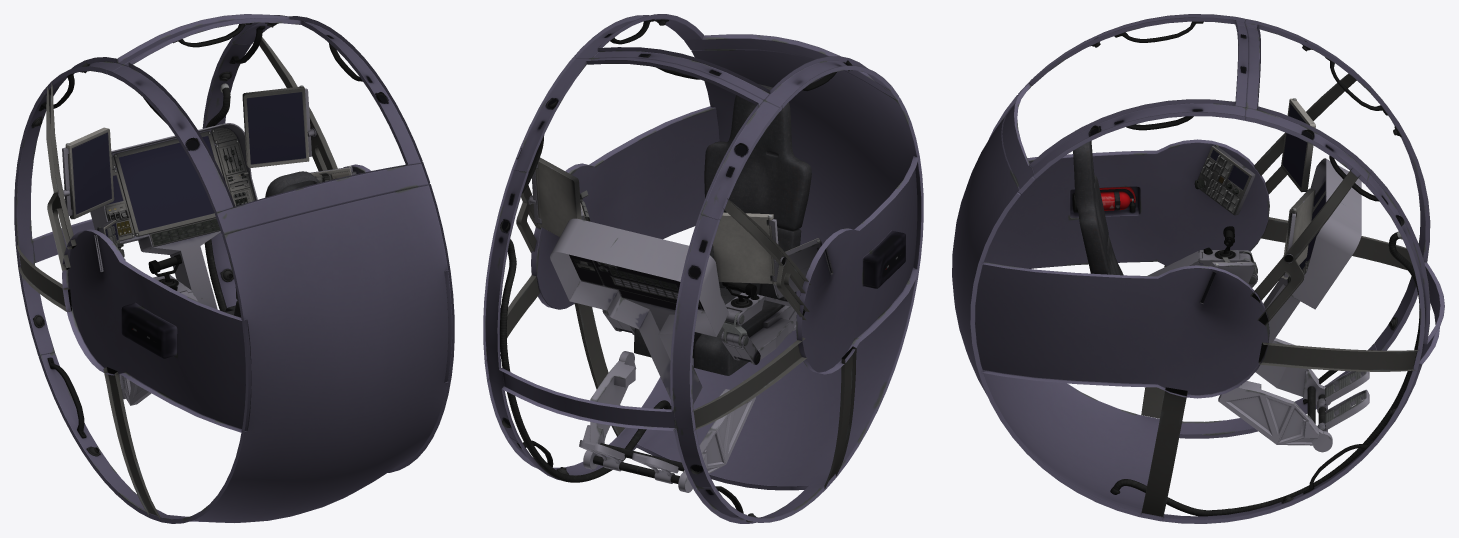
The model's file is default_cockpit.dae.
3 views of the same model, side by side, from view 1: azimuth 30°, elevation 25°; view 2: azimuth 150°, elevation 25°; view 3: azimuth 270°, elevation 25° (orthographic). The views are drawn at different scales.
Visible parts, largest first — view 1: Frame.001, Frame_axis.001, screen_center.001, Frame_spoke.003, screen_right.001, Dashboard_detailed.005, screen_left.001, Dashboard_detailed.009, Frame_spoke.002, Panel-hinged.003, Panel-hinged.004, tube_circle.004 (+5 smaller); view 2: Frame.001, Frame_axis.001, Dashboard_detailed.005, cushion_up_A.005, Seat_legsupport_frame.001, Frame_spoke.003, Frame_spoke.002, Panel-hinged.004, Seat_bottom.001, Panel-hinged.003, tube_circle.004, Seat.022 (+4 smaller); view 3: Frame_axis.001, Frame.001, Frame_spoke.003, Seat_legsupport_frame.001, Dashboard_detailed.005, Frame_spoke.002, cushion_up_A.005, tube_circle.004, Monitor-MFD.022, Panel-hinged.003, screen_left.001, Panel-hinged.004 (+1 smaller).
Boxes of the visible parts, box(x1,y1,x2,y2) form: Frame.001: box(14, 14, 454, 523); Frame_axis.001: box(62, 164, 448, 432); screen_center.001: box(119, 136, 214, 231); Frame_spoke.003: box(46, 37, 337, 519); screen_right.001: box(246, 92, 305, 164); Dashboard_detailed.005: box(90, 123, 257, 309); screen_left.001: box(72, 132, 111, 214); Dashboard_detailed.009: box(113, 131, 223, 236); Frame_spoke.002: box(16, 245, 71, 311); Panel-hinged.003: box(242, 85, 309, 167); Panel-hinged.004: box(65, 127, 114, 219); tube_circle.004: box(204, 83, 230, 311); Frame.001: box(483, 14, 923, 523); Frame_axis.001: box(531, 106, 918, 374); Dashboard_detailed.005: box(550, 218, 728, 404); cushion_up_A.005: box(704, 84, 811, 230); Seat_legsupport_frame.001: box(579, 351, 755, 492); Frame_spoke.003: box(516, 148, 856, 488); Frame_spoke.002: box(485, 275, 806, 430); Panel-hinged.004: box(713, 212, 776, 284); Seat_bottom.001: box(634, 287, 783, 375); Panel-hinged.003: box(535, 157, 581, 236); tube_circle.004: box(500, 239, 671, 482); Seat.022: box(616, 318, 794, 364); Frame_axis.001: box(975, 139, 1269, 398); Frame.001: box(952, 14, 1444, 523); Frame_spoke.003: box(1141, 73, 1360, 517); Seat_legsupport_frame.001: box(1218, 338, 1369, 452); Dashboard_detailed.005: box(1241, 158, 1361, 385); Frame_spoke.002: box(1258, 217, 1419, 371); cushion_up_A.005: box(1073, 141, 1108, 274); tube_circle.004: box(1110, 231, 1425, 516); Monitor-MFD.022: box(1194, 146, 1251, 215); Panel-hinged.003: box(1281, 188, 1315, 279); screen_left.001: box(1282, 103, 1307, 187); Panel-hinged.004: box(1281, 98, 1315, 192).
Size of the model in its own units: 1.29 by 2.01 by 2.02.
